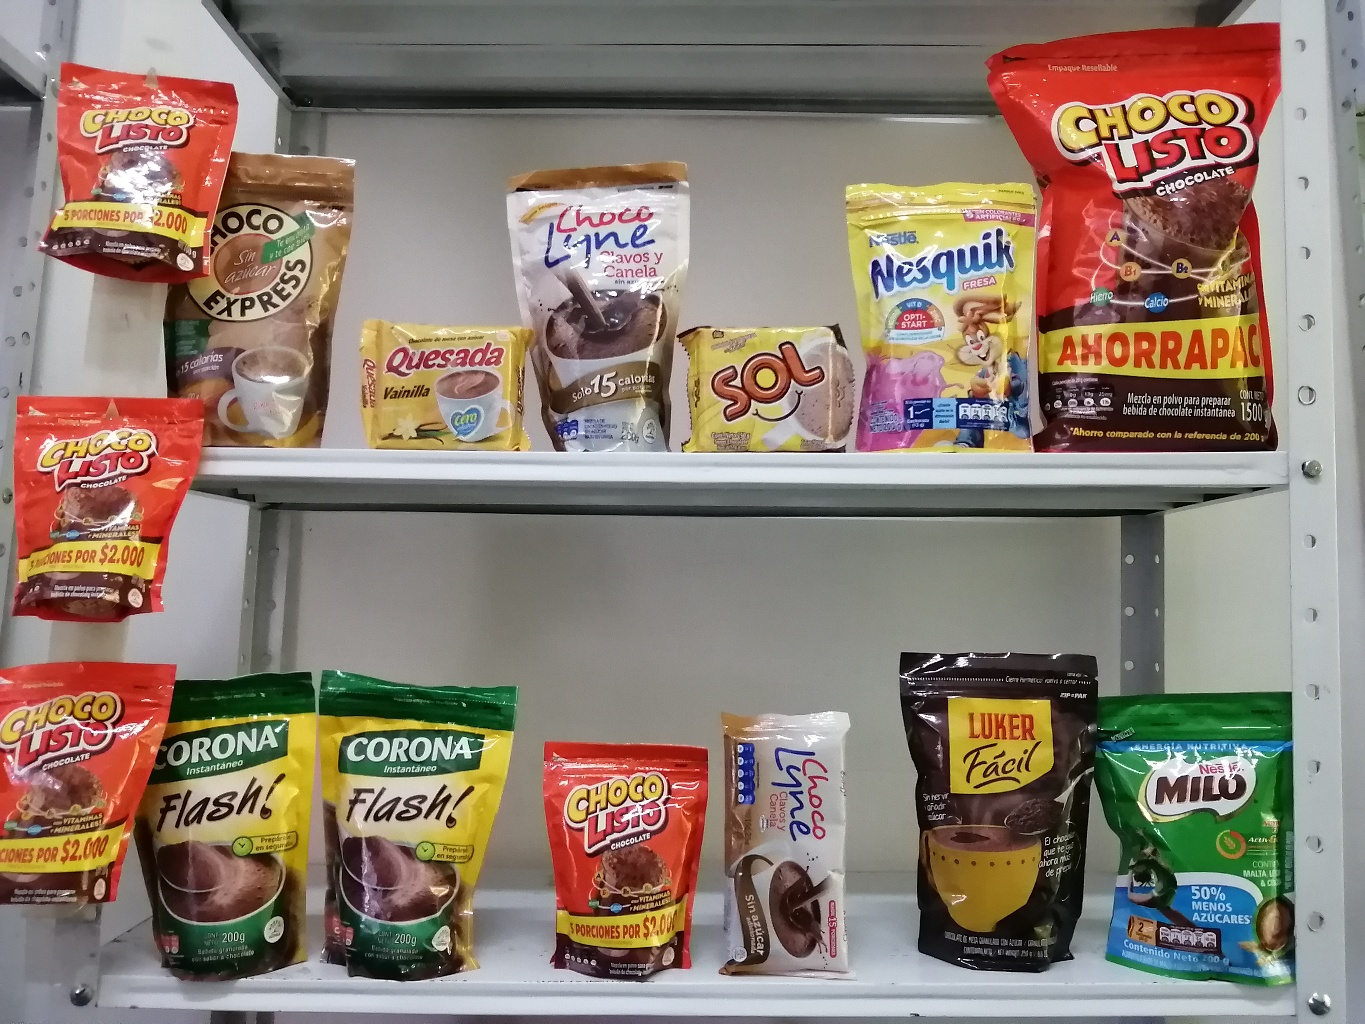COL0170103DYP1,500: (985, 22, 1314, 456)
COL0170205DYP20000: (1083, 675, 1310, 983)
COL0170305DYP20000: (839, 169, 1035, 455)
